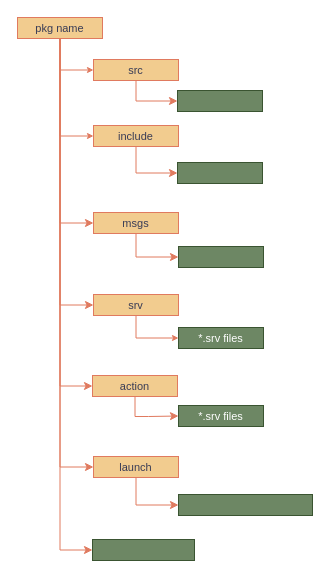
Some shapes in this 330 by 578 pixel diagram are drawn without their labels. Each missing label, with the centre of its shape:
*.cpp files: [219,101]
*.hpp/h files: [219,173]
*.launch.py files: [245,505]
*.msg files: [221,257]
CMakeLists.txt: [143,549]
